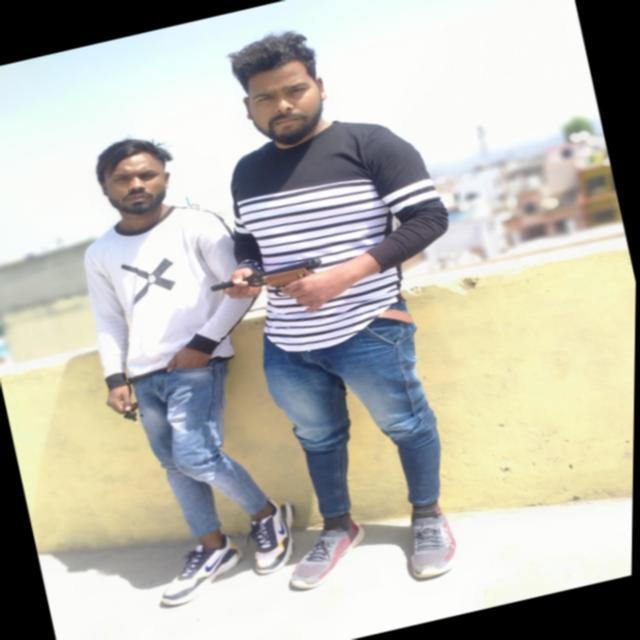weapon: (206, 252, 340, 331)
